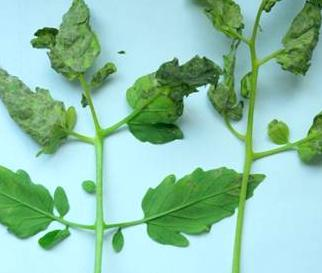Tomato mold leaf: (138, 165, 267, 254), (125, 51, 222, 146), (0, 57, 79, 157), (49, 0, 109, 80), (0, 158, 60, 235)
